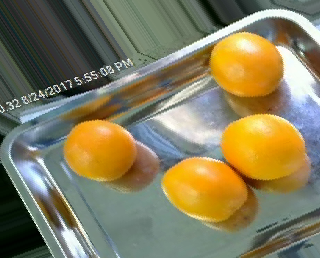Orange: (220, 111, 307, 180), (160, 156, 250, 221), (208, 31, 284, 97), (64, 118, 139, 183)
